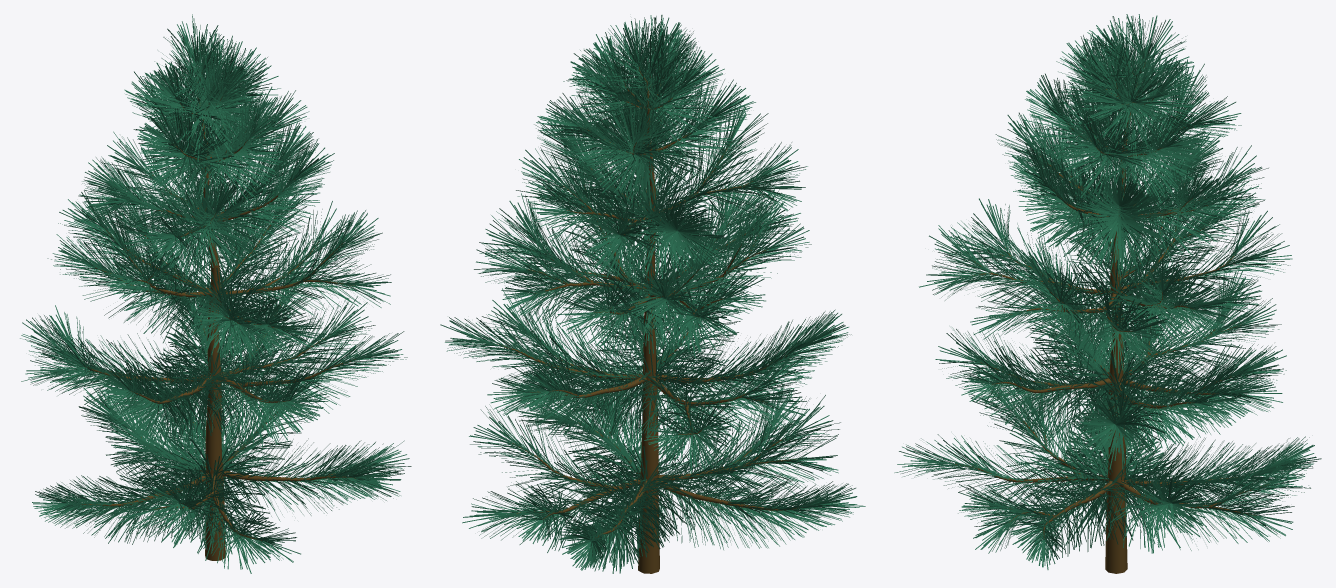
The model's file is small_pine_1.glb.
3 renders of one model, left to right at view 1: azimuth 30°, elevation 25°; view 2: azimuth 150°, elevation 25°; view 3: azimuth 270°, elevation 25°, orthographic. The views are drawn at different scales.
Parts seen in each view (by area): view 1: leaves, tree; view 2: leaves, tree; view 3: leaves, tree.
Boxes of the visible parts, x1,y1,x2,y2 form: leaves: [20, 14, 411, 573]; tree: [82, 72, 355, 560]; leaves: [440, 15, 865, 573]; tree: [497, 67, 802, 573]; leaves: [894, 14, 1321, 569]; tree: [955, 62, 1268, 573].
Size of the model in its own units: 3.68 by 5.34 by 3.76.
